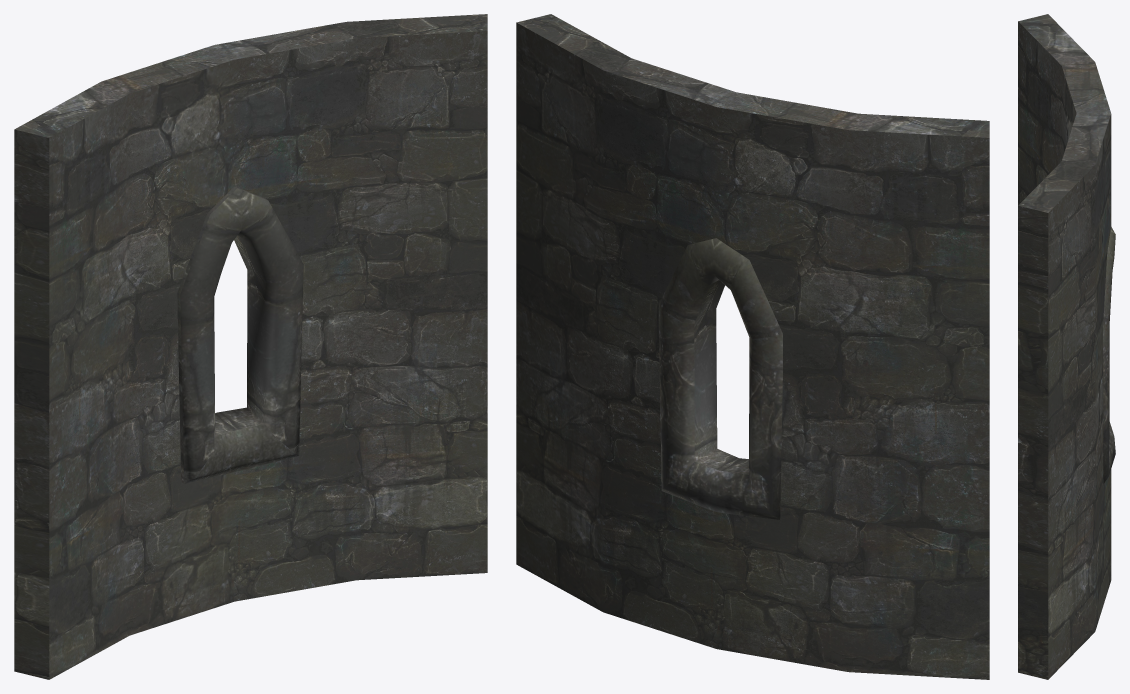
File: Model_CASTLE_TOWER_WINDOW.FBX
3 views of the same model, side by side, from view 1: azimuth 30°, elevation 25°; view 2: azimuth 150°, elevation 25°; view 3: azimuth 270°, elevation 25° (orthographic). The views are drawn at different scales.
Parts seen in each view (by area): view 1: Model_CASTLE_TOWER_WINDOW; view 2: Model_CASTLE_TOWER_WINDOW; view 3: Model_CASTLE_TOWER_WINDOW.
Part boxes in pixels (x1=…): Model_CASTLE_TOWER_WINDOW: x1=14, y1=14, x2=487, y2=679; Model_CASTLE_TOWER_WINDOW: x1=516, y1=14, x2=989, y2=679; Model_CASTLE_TOWER_WINDOW: x1=1018, y1=14, x2=1115, y2=679.
Size of the model in its own units: 204 by 223 by 42.26.
1 material, 1 textured.
